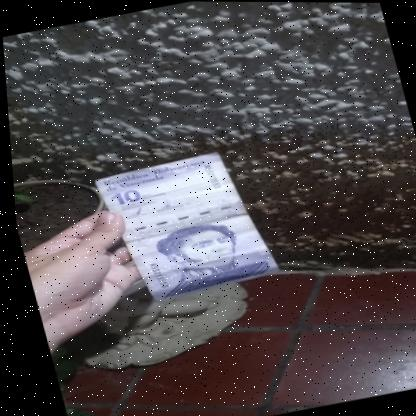ten-front-vef: (86, 144, 279, 309)
